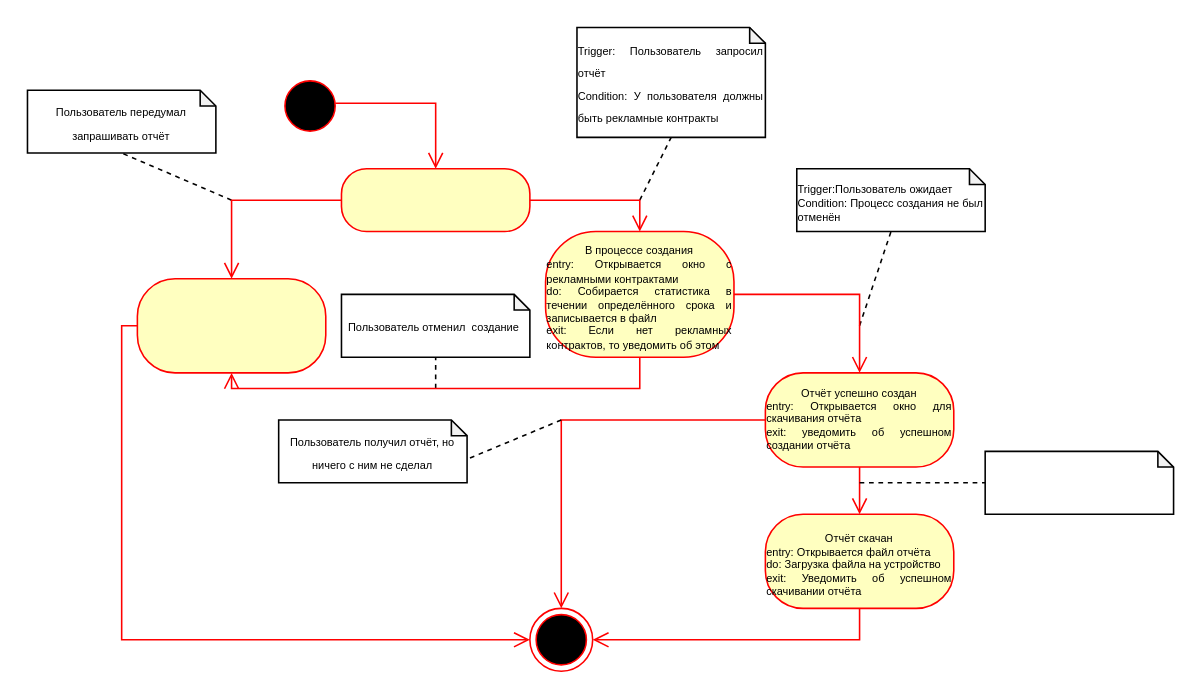
The diagram is 1201 pixels wide and 699 high, and some of its shapes have lost their labels. The shapes that lost their labels are listed below. From the top down, each one's centre as x and y in pixels, then its label:
At (x=435, y=199): "Отсутствие".
At (x=231, y=325): "Отменено Exit: Уведомление об отмене действия".
At (x=1079, y=482): "Пользователь скачал отчёт".
